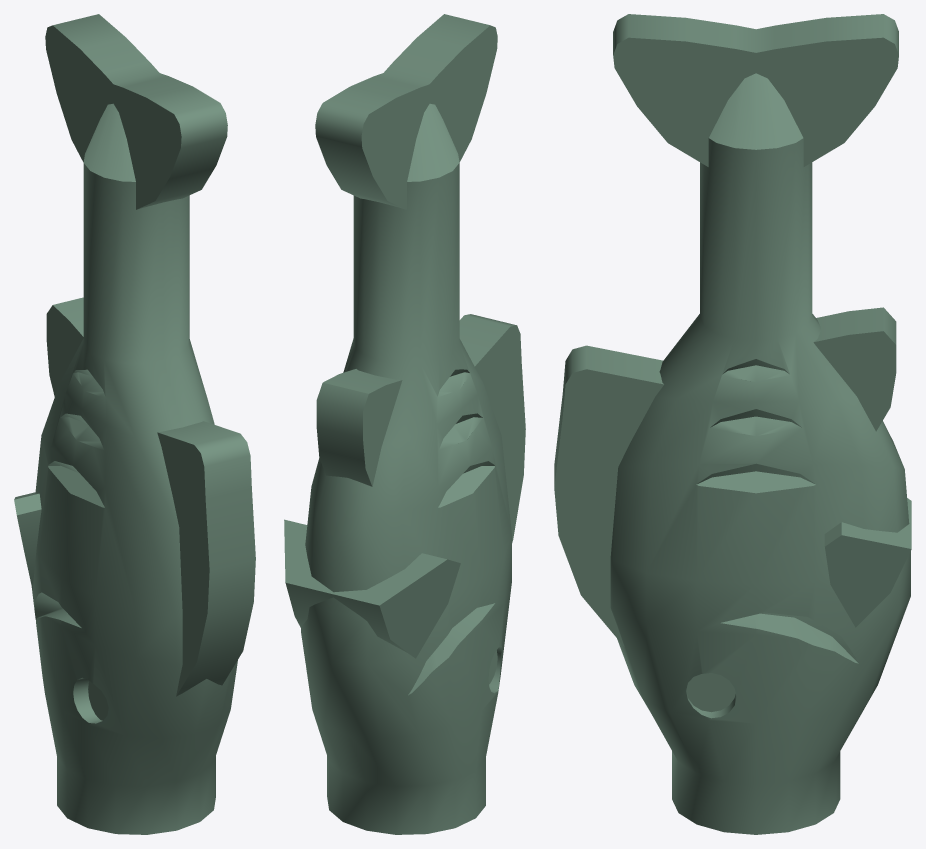
The model's file is fish_green.obj.
The picture shows the model from 3 angles, left to right: view 1: azimuth 30°, elevation 25°; view 2: azimuth 150°, elevation 25°; view 3: azimuth 270°, elevation 25°; orthographic projection. The views are drawn at different scales.
Parts seen in each view (by area): view 1: Piece000; view 2: Piece000; view 3: Piece000.
Part boxes in pixels (<box>): Piece000: <box>14,14,255,834</box>; Piece000: <box>284,14,525,834</box>; Piece000: <box>554,14,911,834</box>.
Size of the model in its own units: 15.05 by 60.9 by 25.5.
